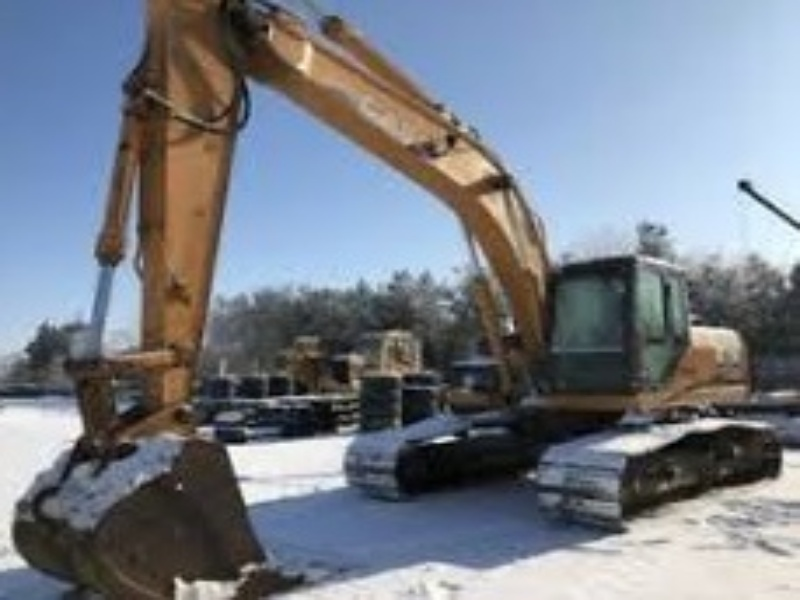wajueji: (346, 134, 792, 530)
